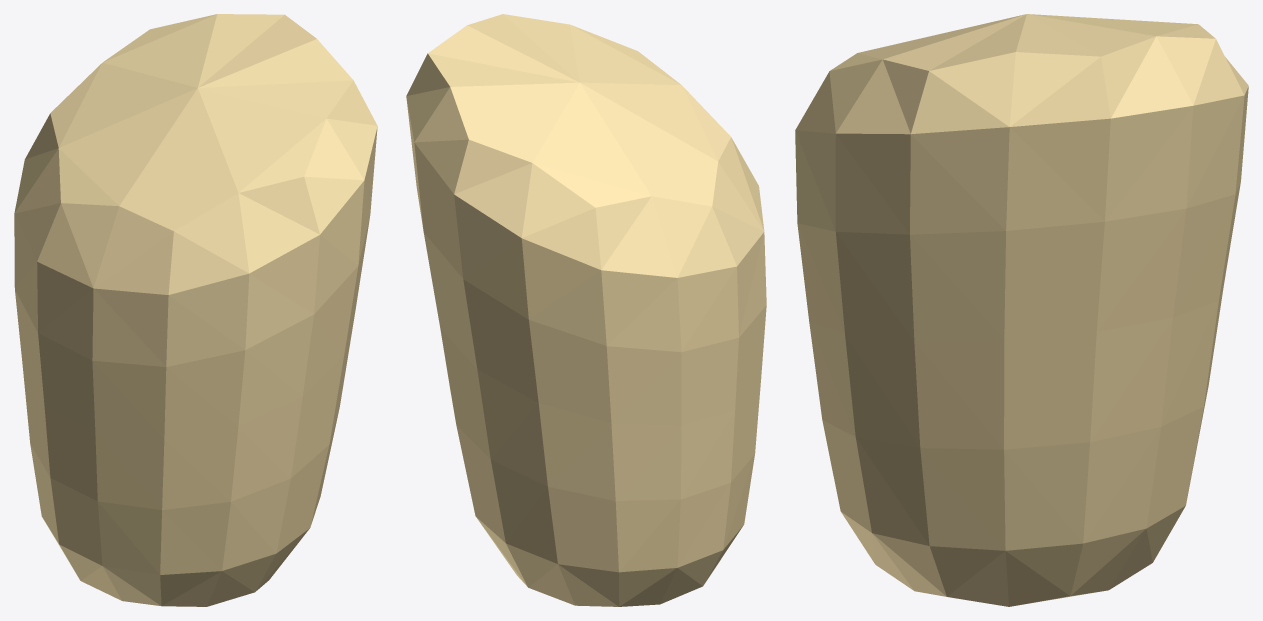
Rendered from rightThigh.obj.
3 renders of one model, left to right at view 1: azimuth 30°, elevation 25°; view 2: azimuth 150°, elevation 25°; view 3: azimuth 270°, elevation 25°, orthographic. The views are drawn at different scales.
Parts seen in each view (by area): view 1: 右もも; view 2: 右もも; view 3: 右もも.
Part boxes in pixels (x1=…): 右もも: x1=14, y1=14, x2=377, y2=606; 右もも: x1=406, y1=14, x2=766, y2=606; 右もも: x1=795, y1=14, x2=1248, y2=606.
Bounding box in the file's own units: 0.1131 × 0.1822 × 0.1204.
1 material, 1 textured.
